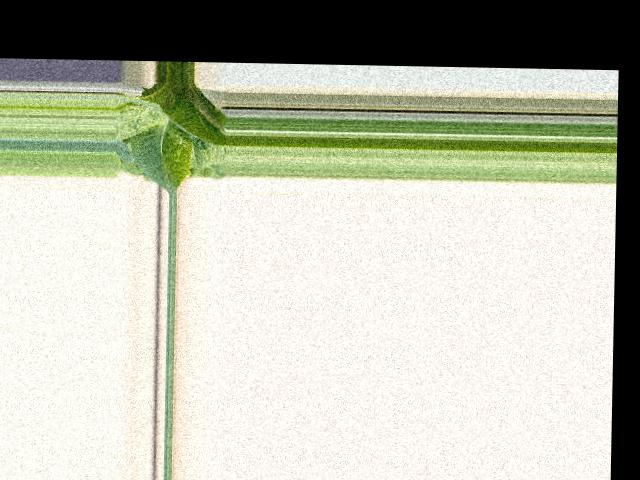lettuce: (125, 81, 225, 185)
